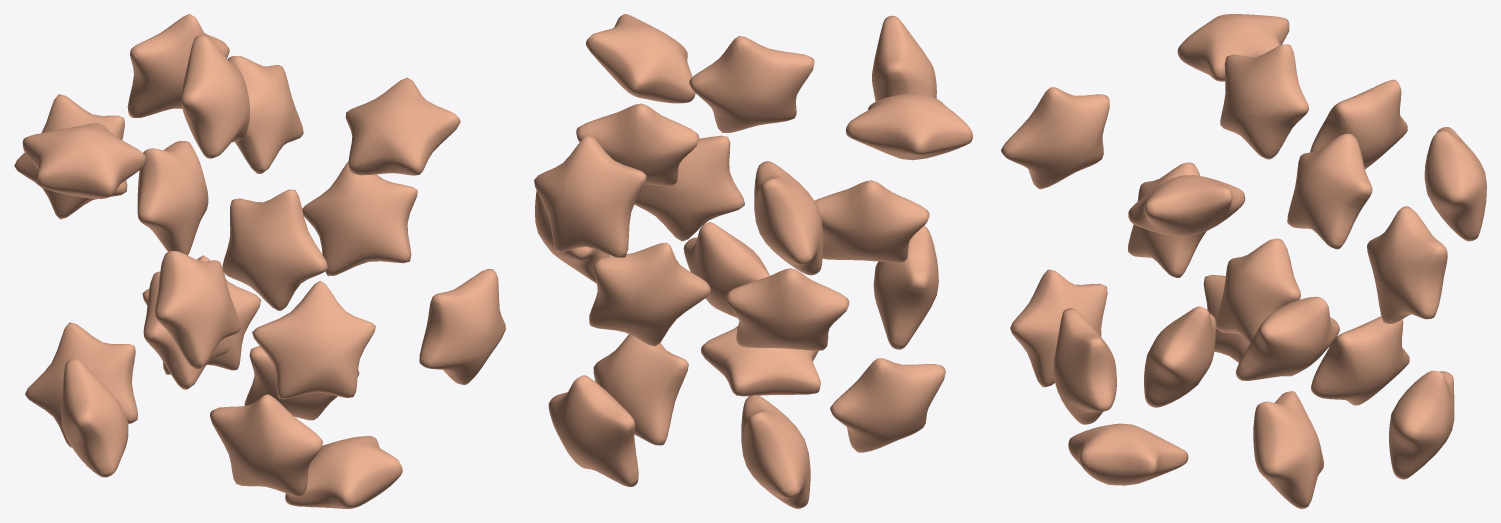
The model's file is Star_Boba.glb.
3 views of the same model, side by side, from view 1: azimuth 30°, elevation 25°; view 2: azimuth 150°, elevation 25°; view 3: azimuth 270°, elevation 25° (orthographic). The views are drawn at different scales.
Parts seen in each view (by area): view 1: Star_Boba; view 2: Star_Boba; view 3: Star_Boba.
Part boxes in pixels (<box>): Star_Boba: <box>14,14,505,508</box>; Star_Boba: <box>534,14,972,508</box>; Star_Boba: <box>1001,14,1486,508</box>.
Size of the model in its own units: 6.7 by 6.66 by 7.15.
